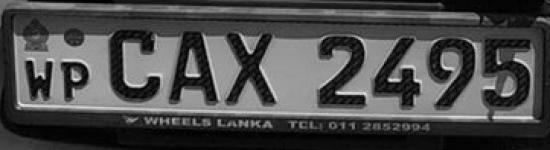2: (311, 29, 366, 113)
4: (371, 33, 425, 113)
5: (483, 34, 536, 114)
9: (426, 33, 479, 115)
A: (166, 28, 221, 107)
C: (104, 24, 166, 106)
P: (60, 54, 95, 103)
W: (20, 54, 58, 102)
X: (222, 29, 285, 109)
